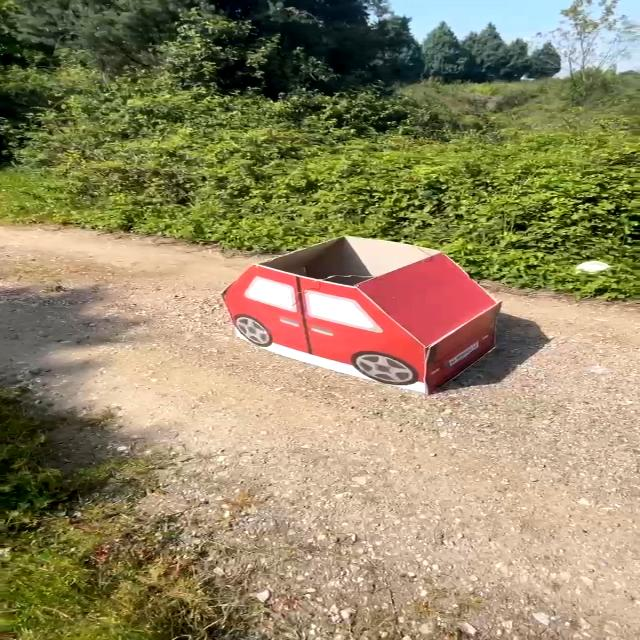red_car: (199, 226, 539, 402)
